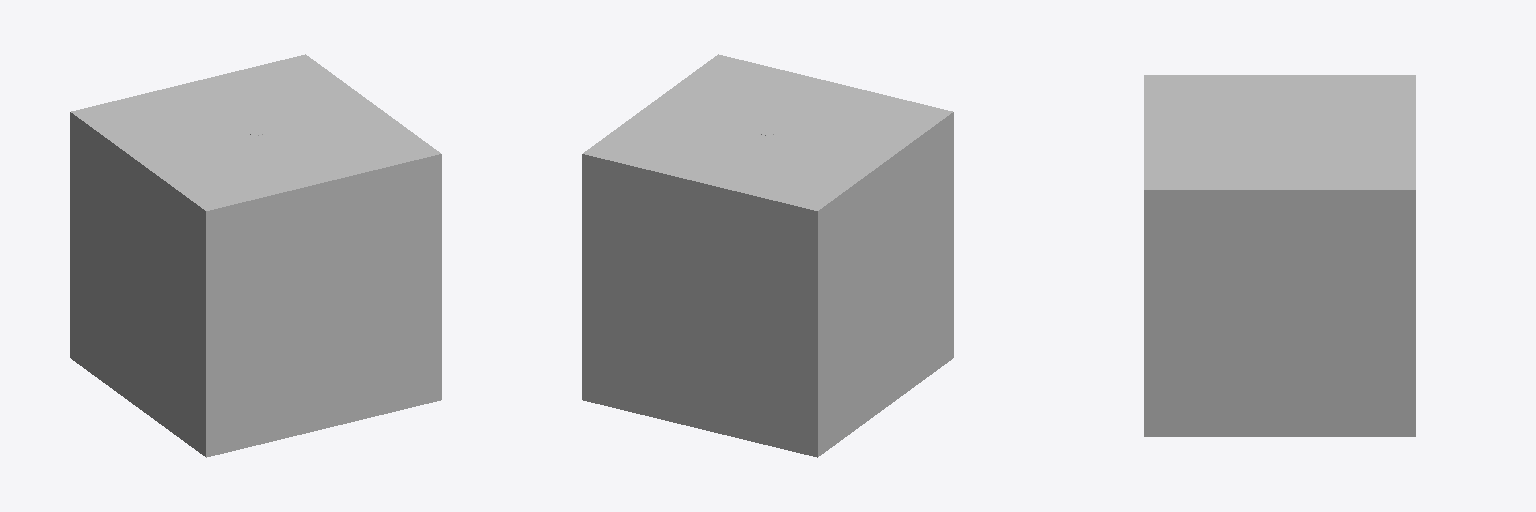
The model's file is light_block.obj.
3 views of the same model, side by side, from view 1: azimuth 30°, elevation 25°; view 2: azimuth 150°, elevation 25°; view 3: azimuth 270°, elevation 25° (orthographic).
Parts seen in each view (by area): view 1: Cube; view 2: Cube; view 3: Cube.
Part boxes in pixels (x1,y1,x2,y2): Cube: (70, 54, 441, 457); Cube: (582, 54, 953, 457); Cube: (1144, 75, 1415, 436).
Size of the model in its own units: 1 by 1 by 1.